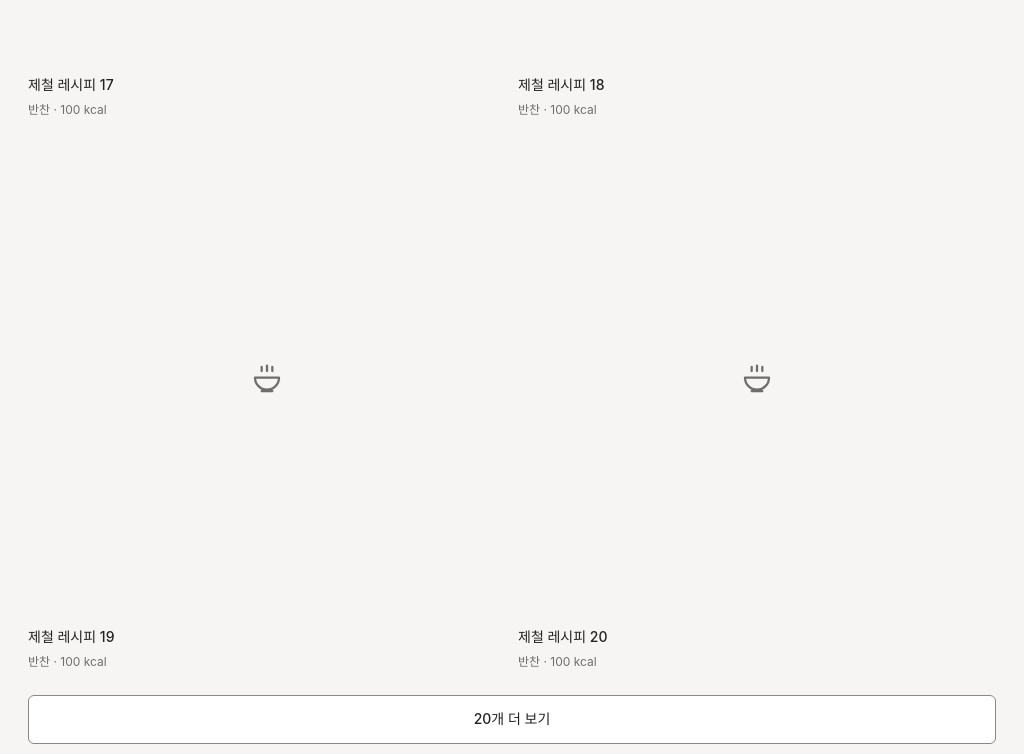
Test: 테마 전체보기 › 서버가 offset을 무시한 경우 이전 레시피를 중복 추가하지 않는다
The width and height of the screenshot is (1024, 754).
(page scrolled)
Click the button "20개 더 보기": (512, 720) [28,695,996,744]
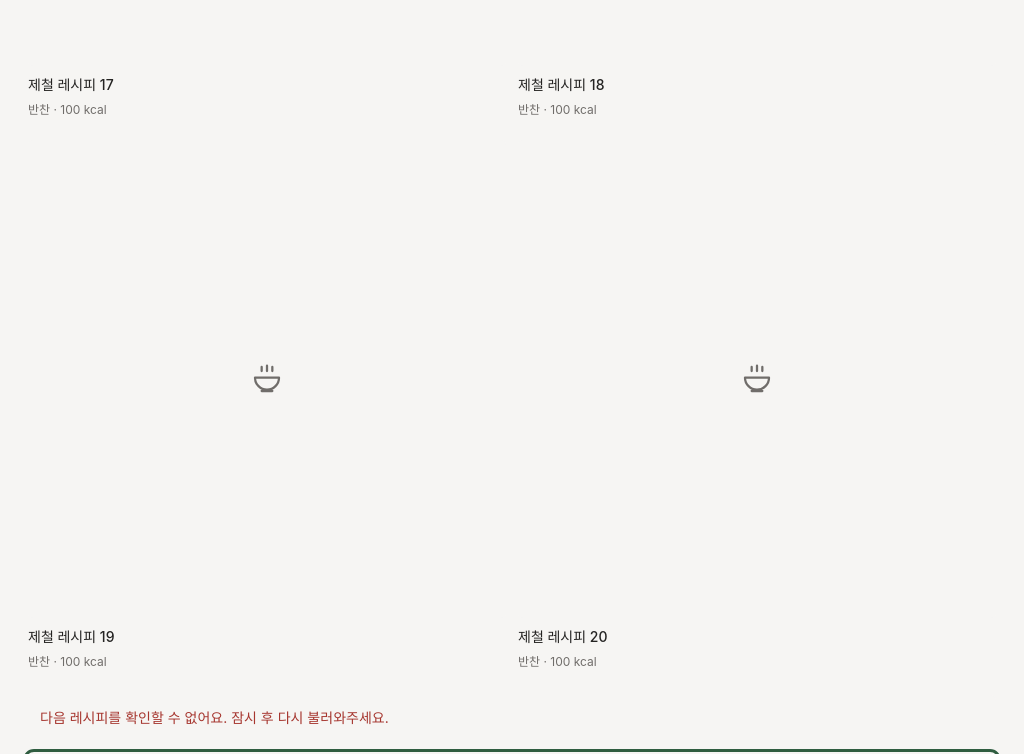
Now the message shows "다음 레시피를 확인할 수 없어요.", box [40,709,389,726]
